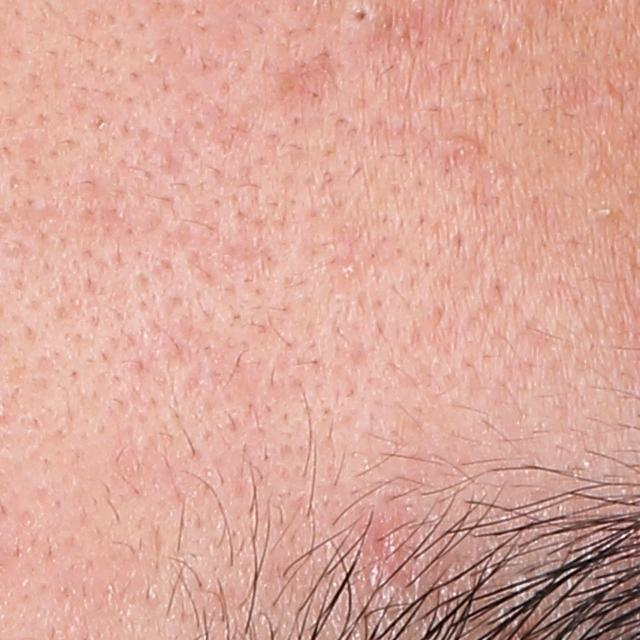comedo: (591, 200, 617, 226), (350, 6, 375, 31)
